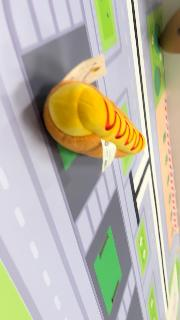hotdog: (43, 79, 147, 161)
